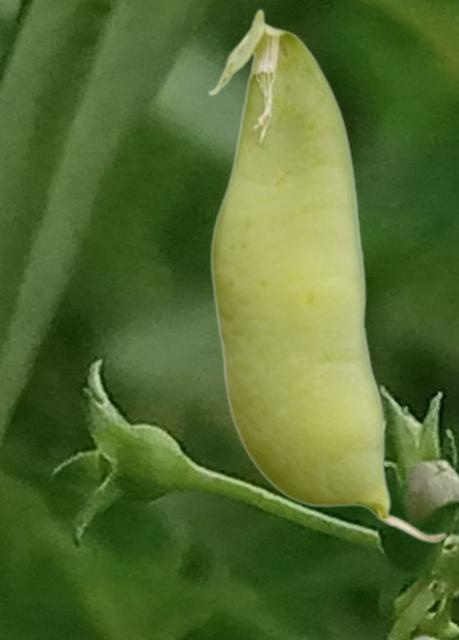pea: (207, 8, 448, 543)
